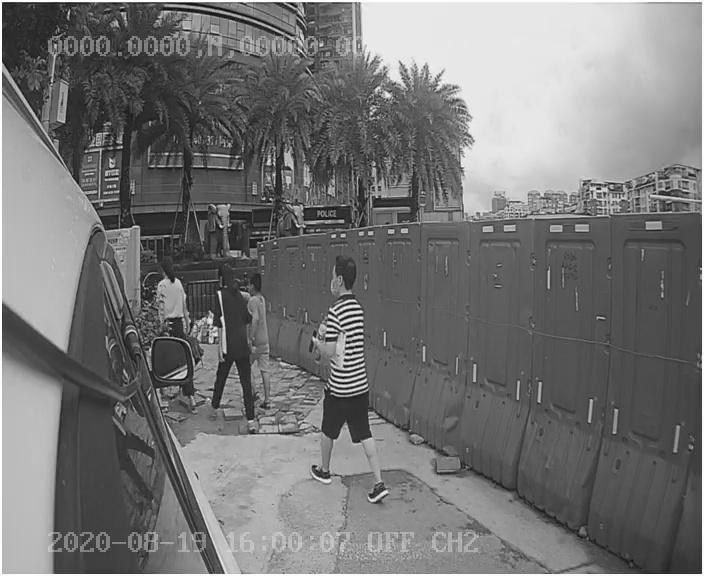person: (294, 249, 404, 505), (200, 255, 287, 431)
